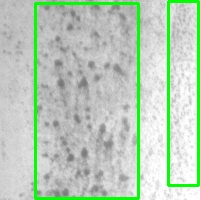pitted_surface: (35, 3, 138, 198), (168, 1, 198, 185)
